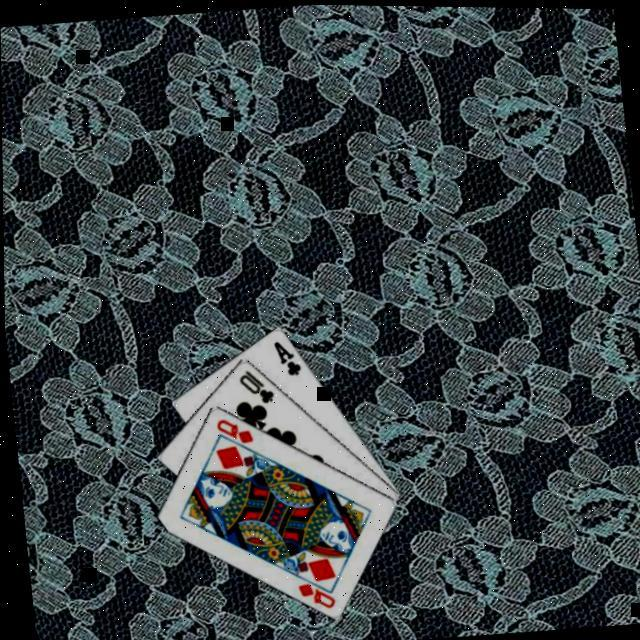10C: (235, 362, 278, 406)
AC: (270, 334, 304, 377)
QD: (294, 575, 338, 611), (213, 412, 257, 446)
